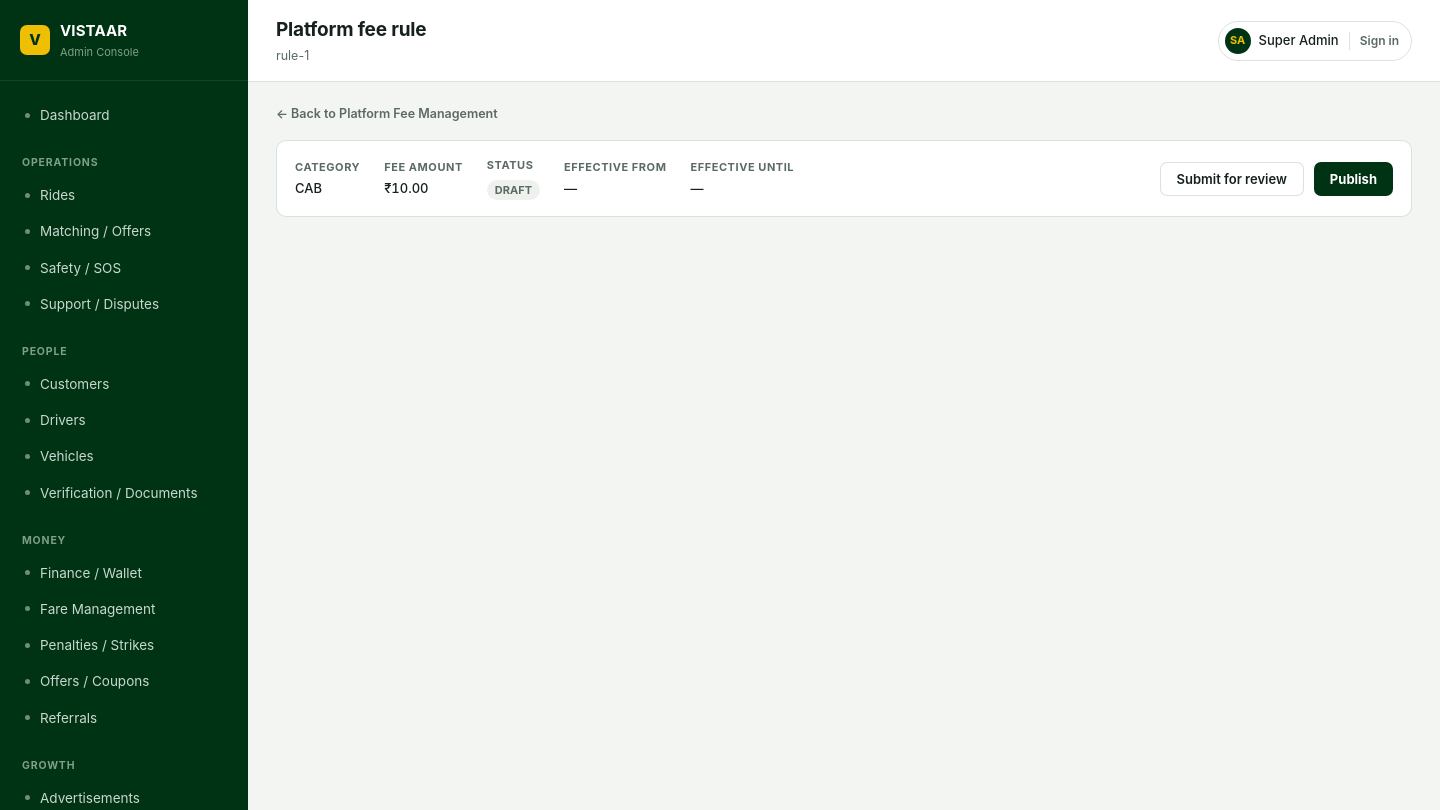
PlatformFeeRuleDetailPage › offers Submit for review and Publish on a DRAFT rule, and submits for review
Click the button "Submit for review" at (1232, 178), box 1160,162 -> 1304,196
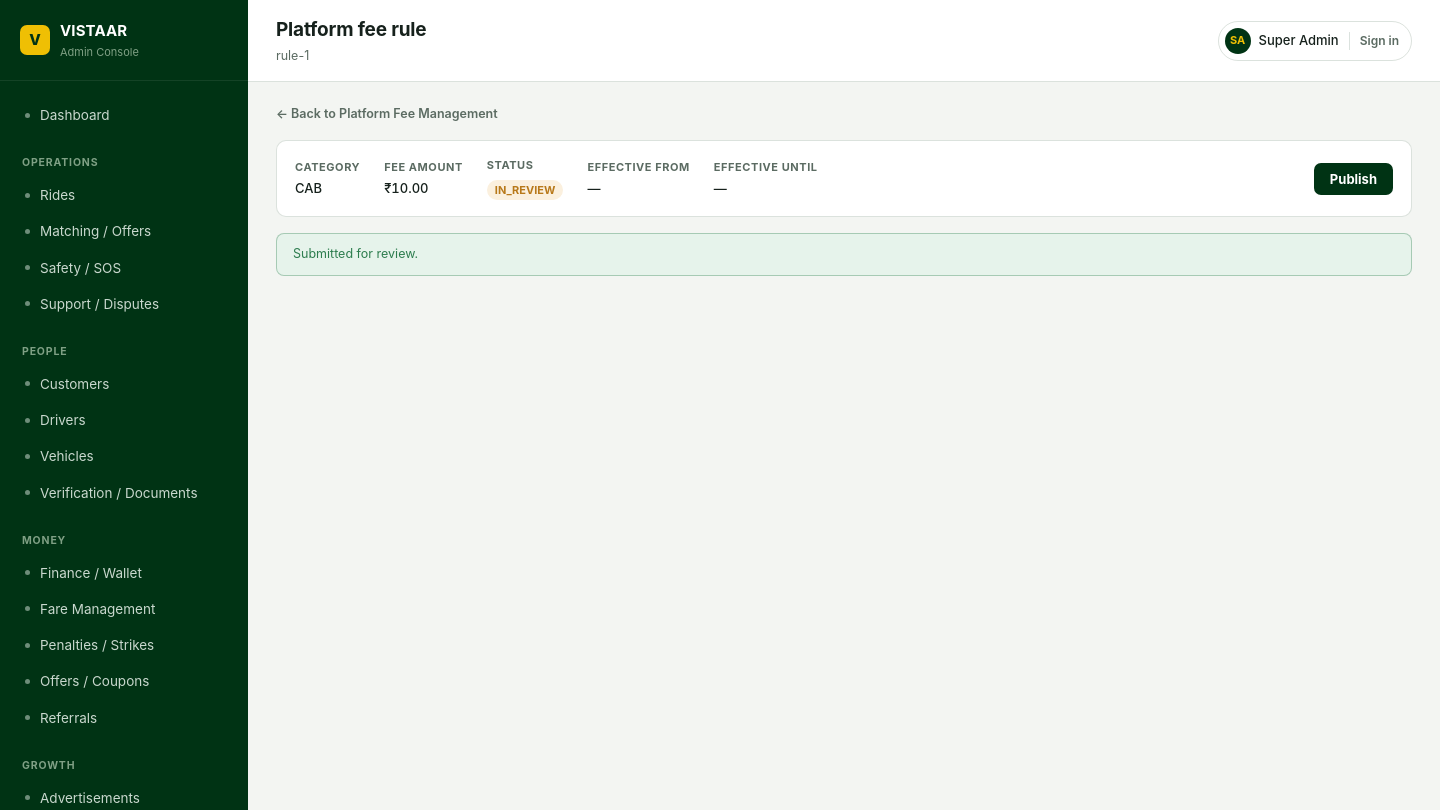
Expected: the text "Submitted for review." is shown, 276,233 -> 1412,276
Expected: the button "Submit for review" is gone
